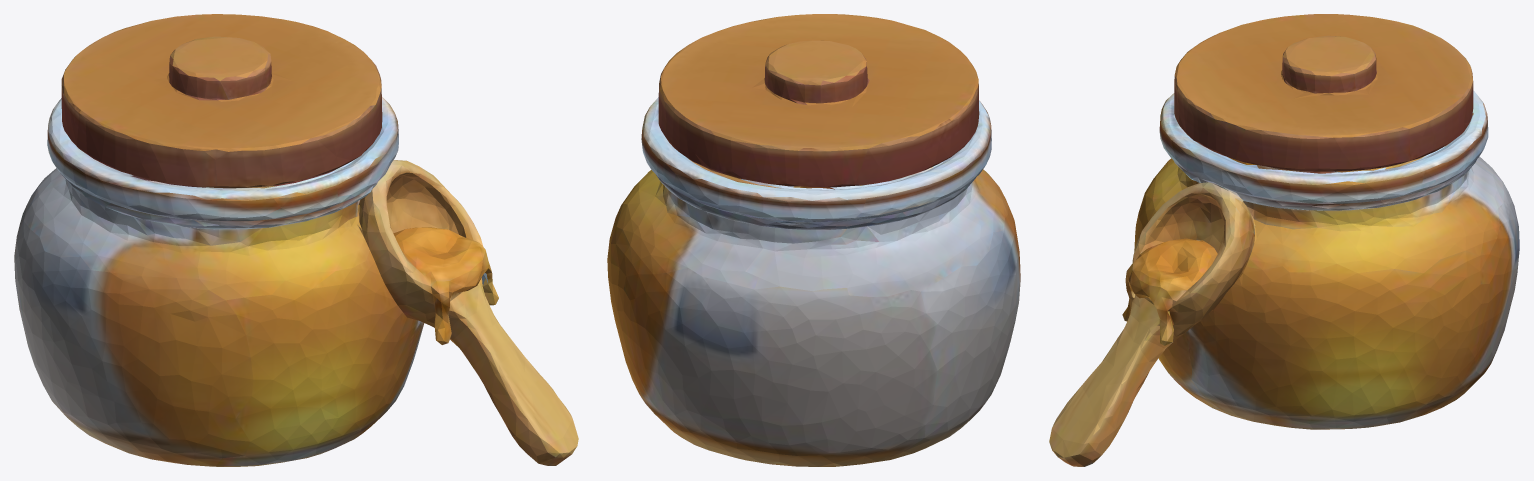
File: honey_jar.glb
3 renders of one model, left to right at view 1: azimuth 30°, elevation 25°; view 2: azimuth 150°, elevation 25°; view 3: azimuth 270°, elevation 25°, orthographic. The views are drawn at different scales.
Parts seen in each view (by area): view 1: tmpasn0qtm8.ply; view 2: tmpasn0qtm8.ply; view 3: tmpasn0qtm8.ply.
Part boxes in pixels (x1,y1,x2,y2): tmpasn0qtm8.ply: (14,14,578,466); tmpasn0qtm8.ply: (607,14,1020,466); tmpasn0qtm8.ply: (1049,14,1519,466).
Bounding box in the file's own units: 1.8 × 1.51 × 2.
1 material, 1 textured.
